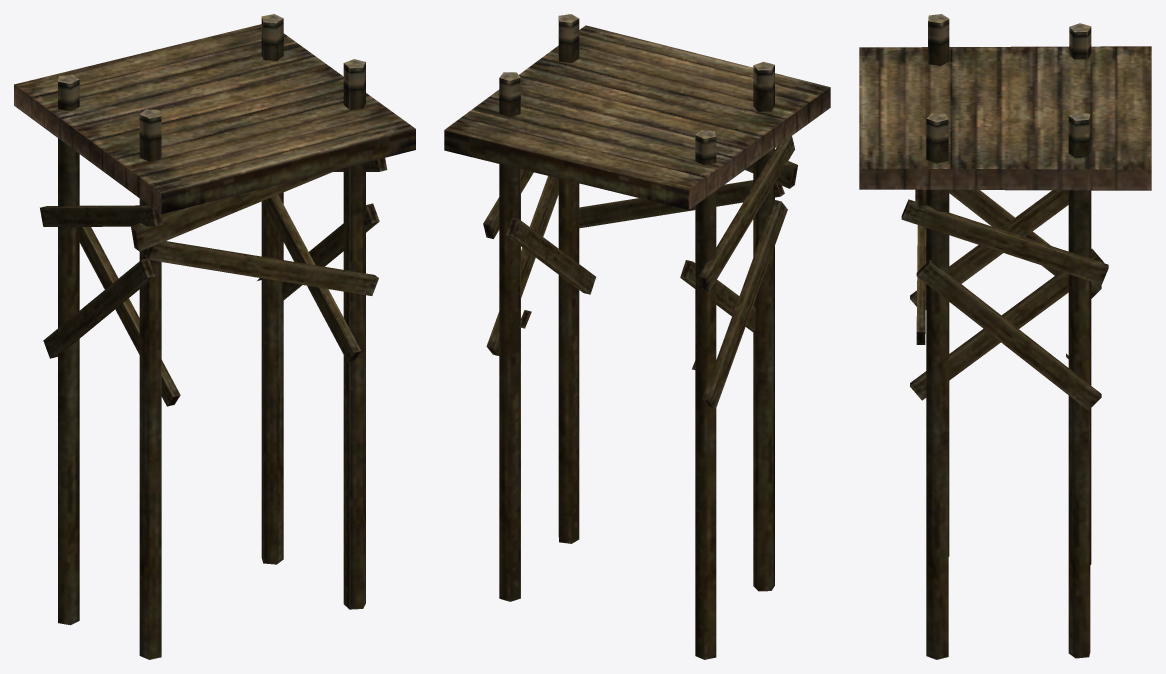
File: b_general_obj_01_4.fbx
The picture shows the model from 3 angles, left to right: view 1: azimuth 30°, elevation 25°; view 2: azimuth 150°, elevation 25°; view 3: azimuth 270°, elevation 25°; orthographic projection. The views are drawn at different scales.
Parts seen in each view (by area): view 1: Mesh03; view 2: Mesh03; view 3: Mesh03.
Boxes of the visible parts, x1,y1,x2,y2 form: Mesh03: (14, 14, 415, 659); Mesh03: (444, 14, 830, 659); Mesh03: (859, 14, 1151, 659).
Bounding box in the file's own units: 5 × 10.44 × 5.
